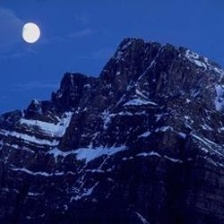neutral: (6, 5, 220, 219)
